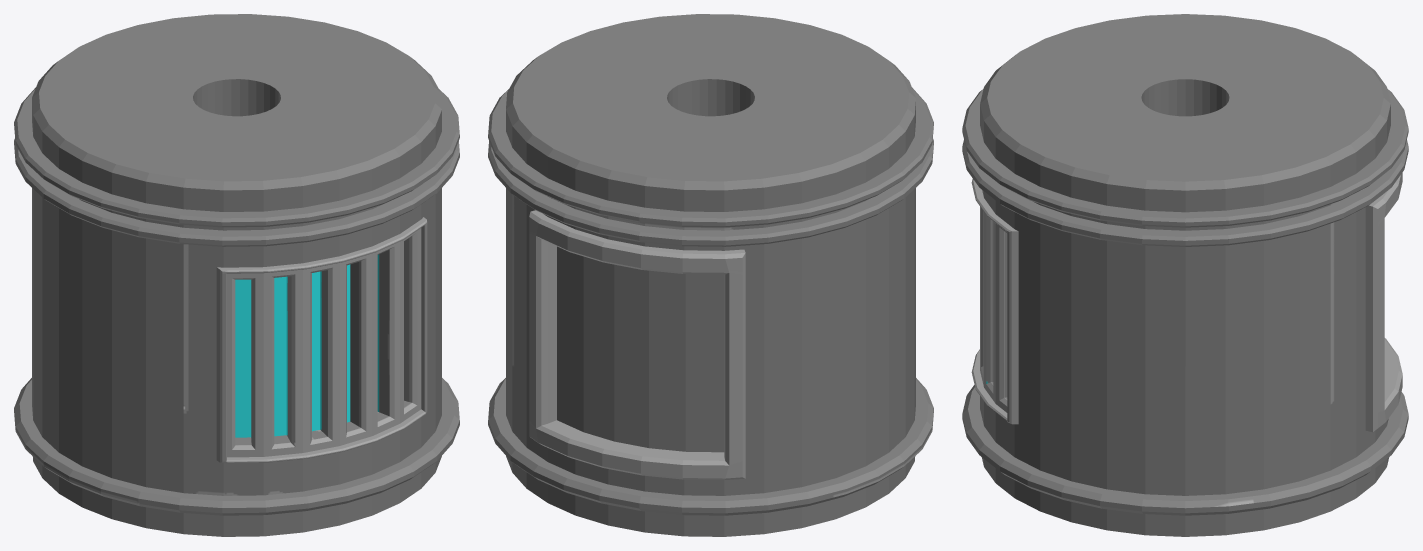
File: piston bottom(1).fbx
The picture shows the model from 3 angles, left to right: view 1: azimuth 30°, elevation 25°; view 2: azimuth 150°, elevation 25°; view 3: azimuth 270°, elevation 25°; orthographic projection.
Visible parts, largest first — view 1: Cylinder; view 2: Cylinder; view 3: Cylinder.
Boxes of the visible parts, left/top/right/bottom form: Cylinder: left=14, top=14, right=459, bottom=536; Cylinder: left=488, top=14, right=933, bottom=536; Cylinder: left=962, top=14, right=1408, bottom=536.
Size of the model in its own units: 394 by 344 by 394.
1 material, 1 textured.
